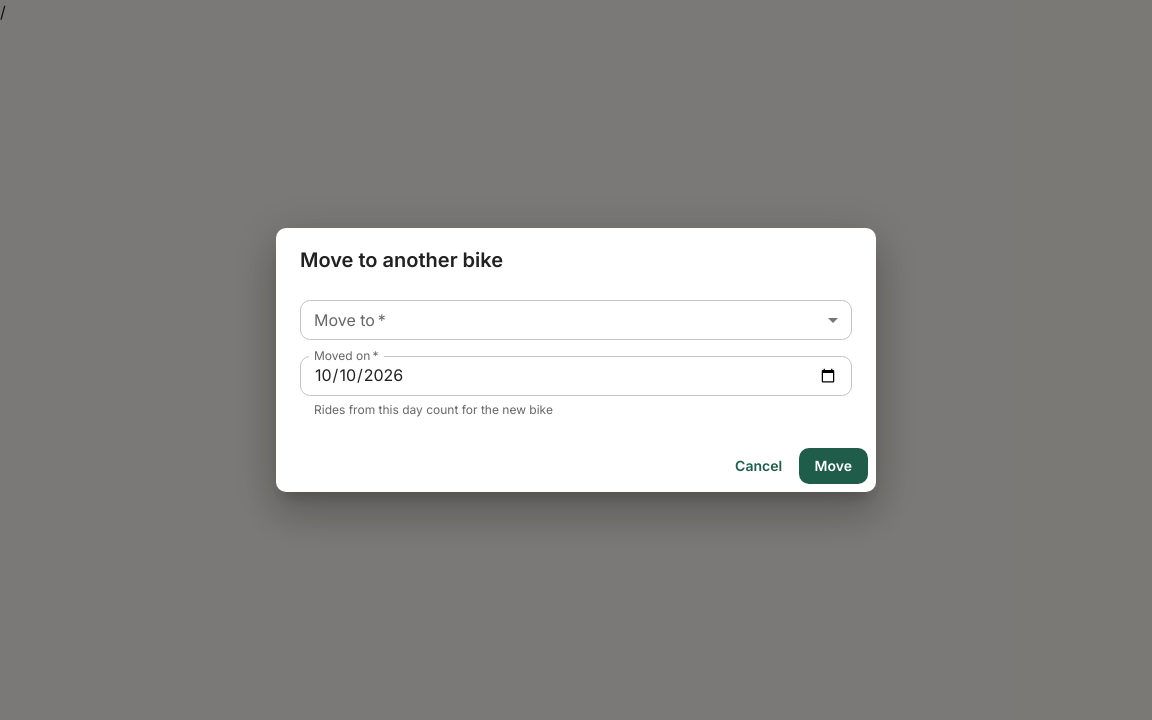
Test: MoveComponentDialog › posts the move, confirms with the new bike name and reports the result
This screenshot has width=1152, height=720.
Step 1. Click the dropdown named "Move to" → (576, 320), box x1=300 y1=300 x2=852 y2=340
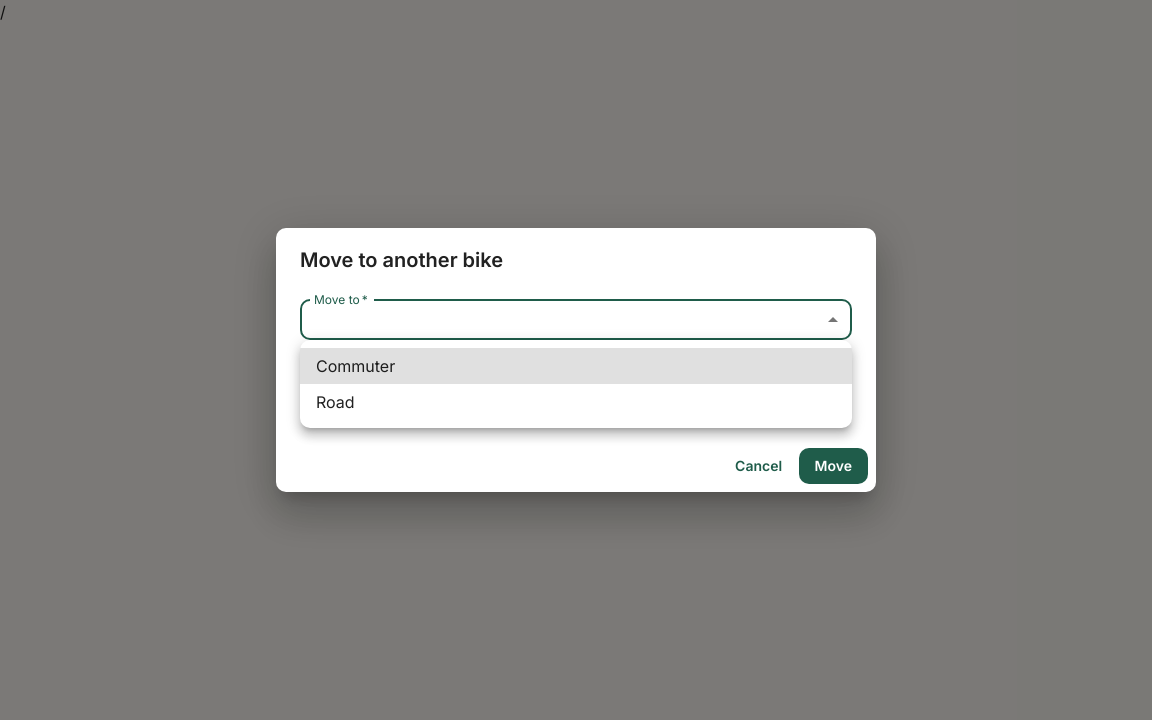
Step 2. Click the option "Commuter" → (356, 366), box x1=300 y1=348 x2=852 y2=384
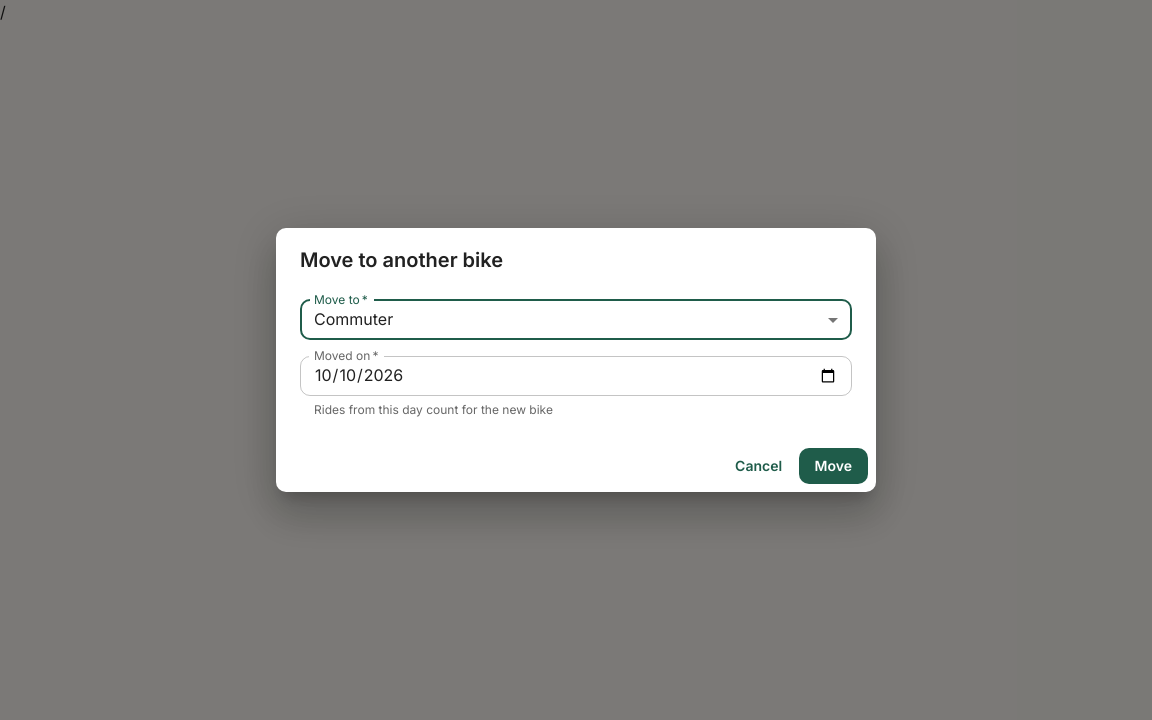
Step 3. Type "2026-08-01" into the date field labelled "Moved on *" → (576, 376), box x1=300 y1=356 x2=852 y2=396
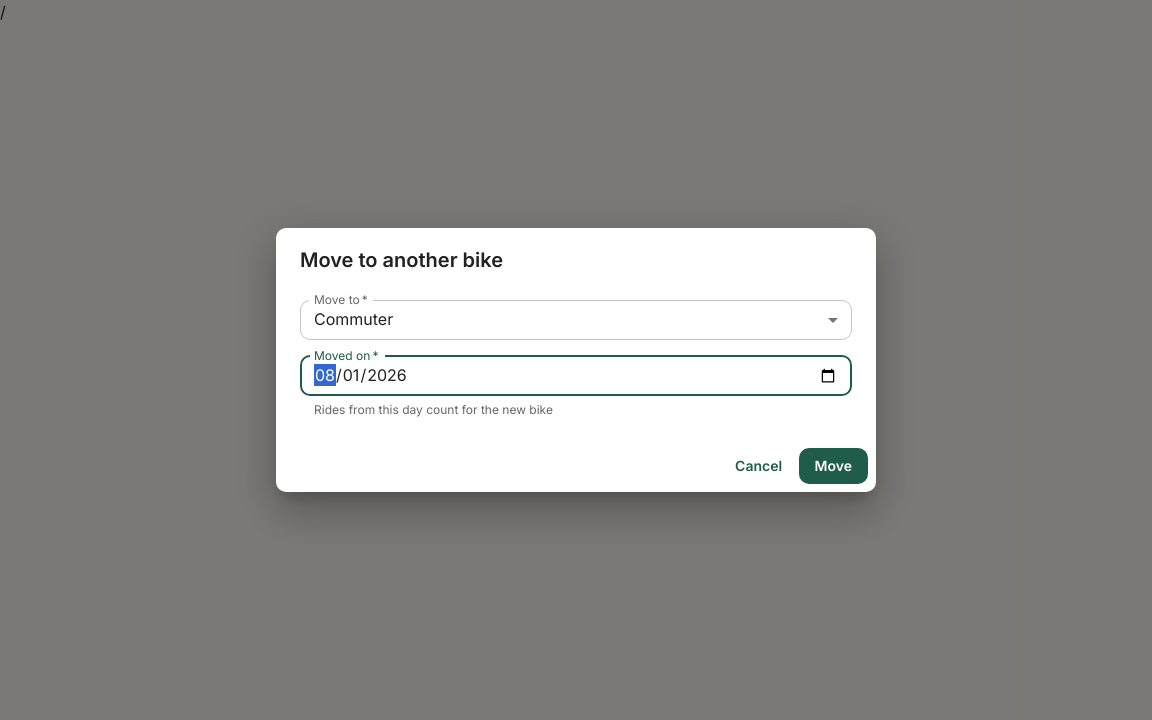
Step 4. Click the button "Move" → (833, 466), box x1=799 y1=448 x2=868 y2=484
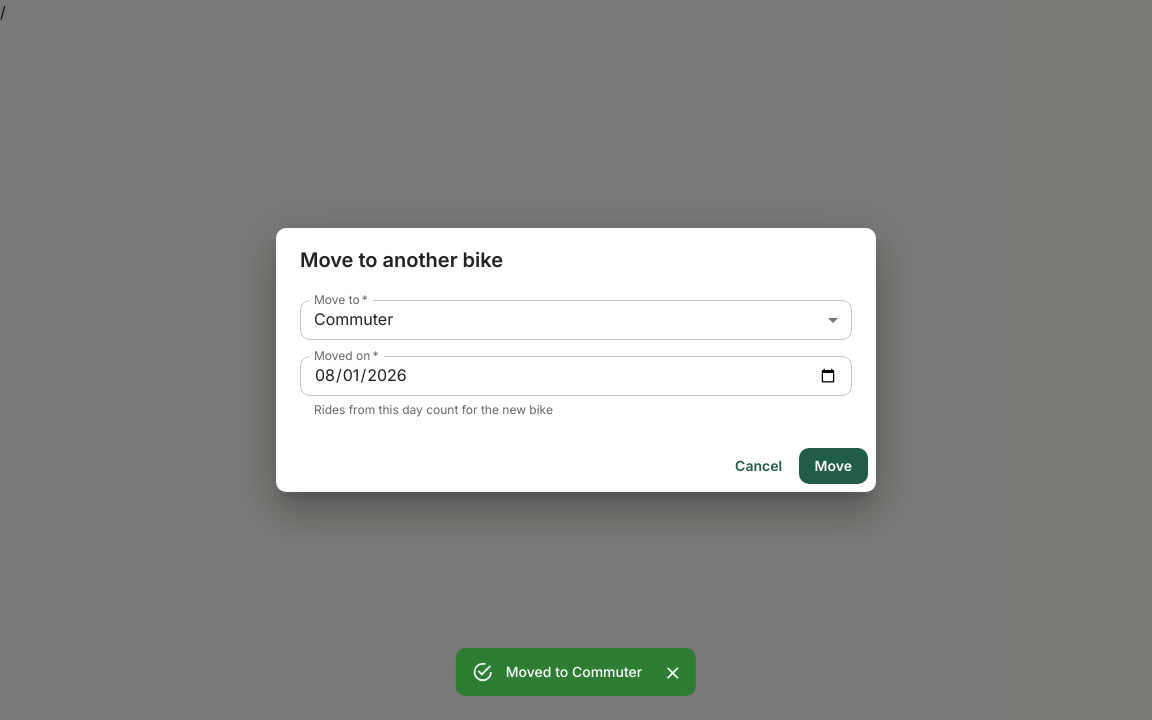
Check: the text "Moved to Commuter" is shown, box x1=506 y1=663 x2=642 y2=680
